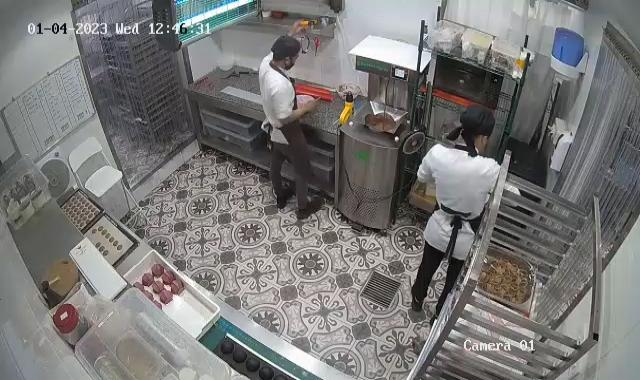no_hairnet: (460, 104, 498, 148), (268, 36, 302, 62)
